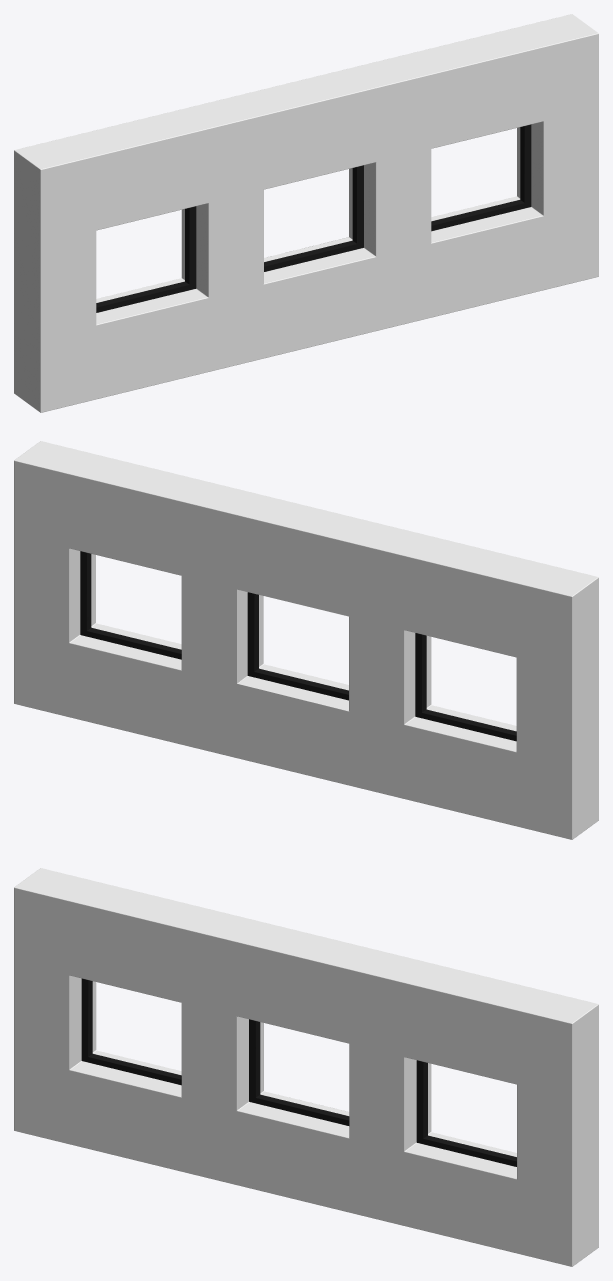
File: StraightWallPanelGlass.fbx
3 renders of one model, top to bottom at view 1: azimuth 30°, elevation 25°; view 2: azimuth 150°, elevation 25°; view 3: azimuth 330°, elevation 25°, orthographic.
Visible parts, largest first — view 1: StraightWallPanelGlass; view 2: StraightWallPanelGlass; view 3: StraightWallPanelGlass.
Boxes of the visible parts, x1,y1,x2,y2 form: StraightWallPanelGlass: (14,14,598,412); StraightWallPanelGlass: (14,441,598,839); StraightWallPanelGlass: (14,868,598,1266).
Size of the model in its own units: 360 by 150 by 30.
2 materials, 2 textured.
